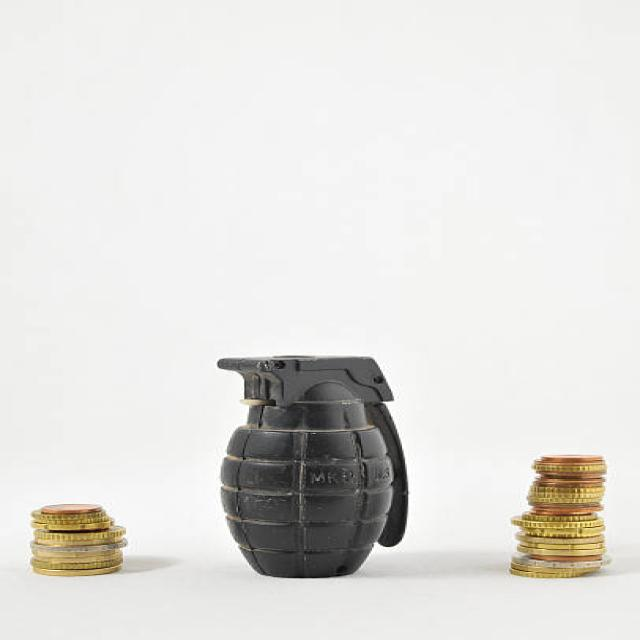grenade: (212, 349, 417, 584)
